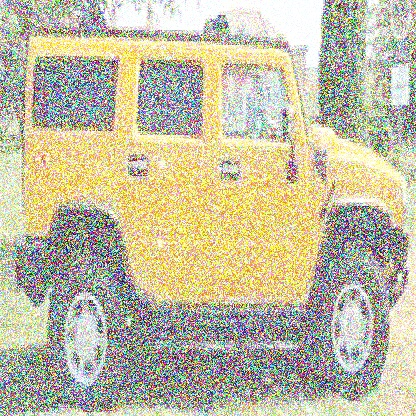Vehicle: (17, 22, 414, 416)
